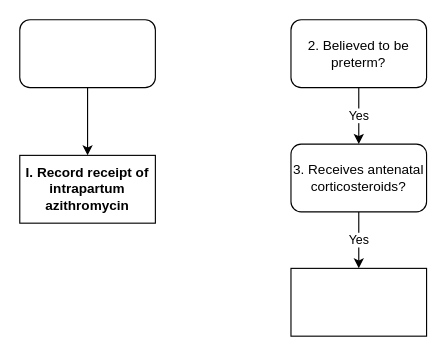
Image size: 446x356. Some labels were removed from this diagram. The shapes that lost their labels are listed below. From the top down, each one's centre as x and y in pixels, then its label:
At (x=87, y=53): "1. Receives intrapartum azithromycin?".
At (x=358, y=301): "II. Record receipt of antenatal corticosteroids".
